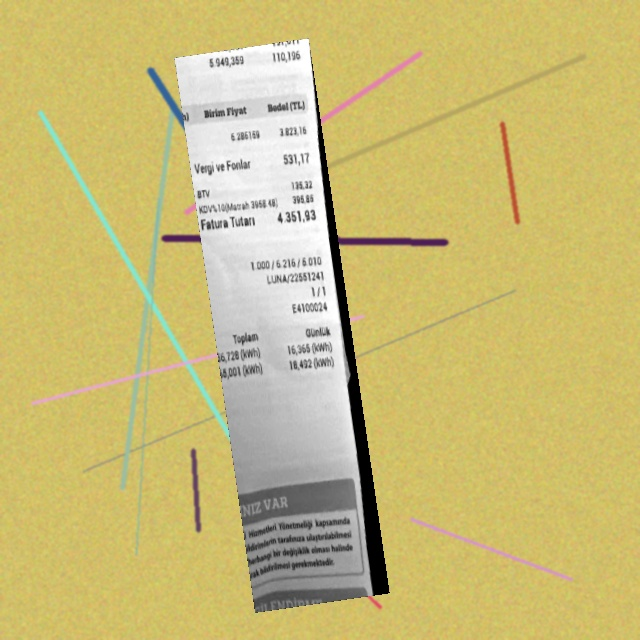electricity-bill: (174, 37, 390, 612)
